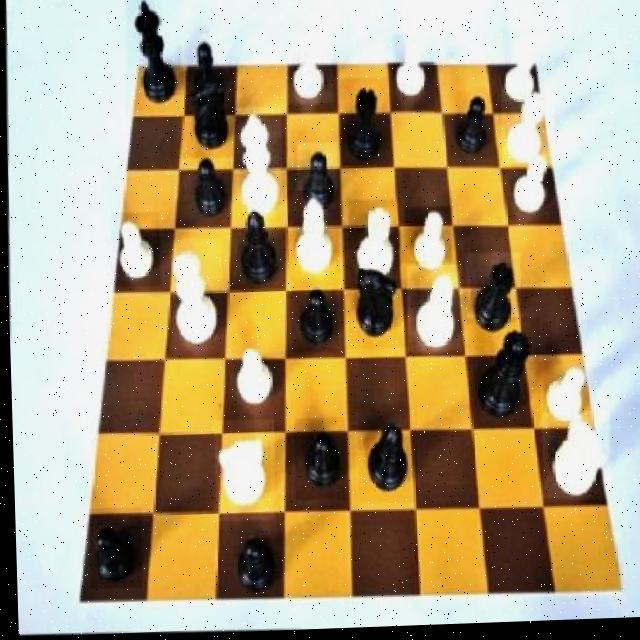bishop: (352, 407, 417, 508), (225, 203, 284, 294)
black-bishop: (123, 0, 183, 116)
black-king: (342, 251, 407, 352), (179, 70, 235, 161)
black-knight: (288, 420, 343, 504), (84, 507, 140, 589), (180, 35, 229, 115), (225, 528, 277, 602), (288, 278, 337, 356), (294, 144, 339, 221), (182, 154, 231, 223), (447, 92, 495, 161)
black-pawn: (463, 320, 540, 434)
black-queen: (338, 79, 393, 176), (462, 256, 520, 347)
black-rook: (404, 267, 463, 357), (283, 190, 340, 281)
white-bishop: (233, 107, 284, 230)
white-king: (208, 420, 273, 523), (538, 415, 609, 504)
white-knight: (383, 36, 436, 119), (108, 212, 160, 289), (533, 366, 591, 435), (228, 343, 274, 420), (507, 151, 556, 223), (402, 209, 452, 279), (497, 44, 547, 112), (286, 35, 333, 107)
white-pawn: (165, 238, 224, 356)
white-queen: (343, 203, 398, 290), (499, 87, 554, 170)
